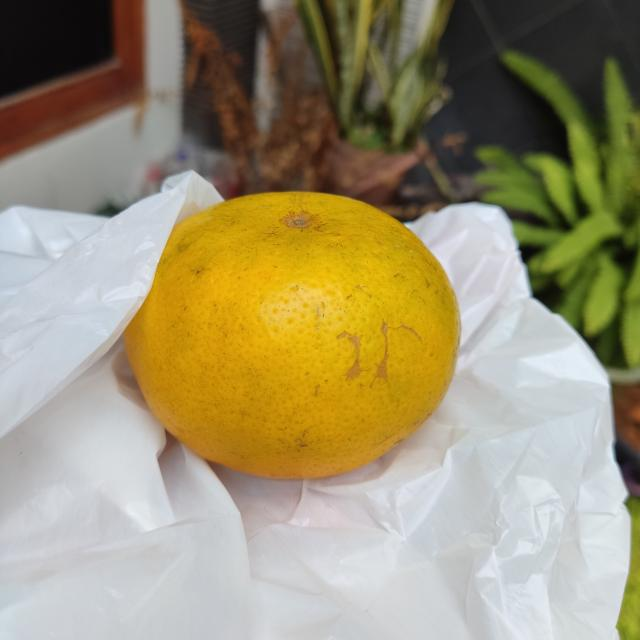orange: (121, 189, 464, 485)
